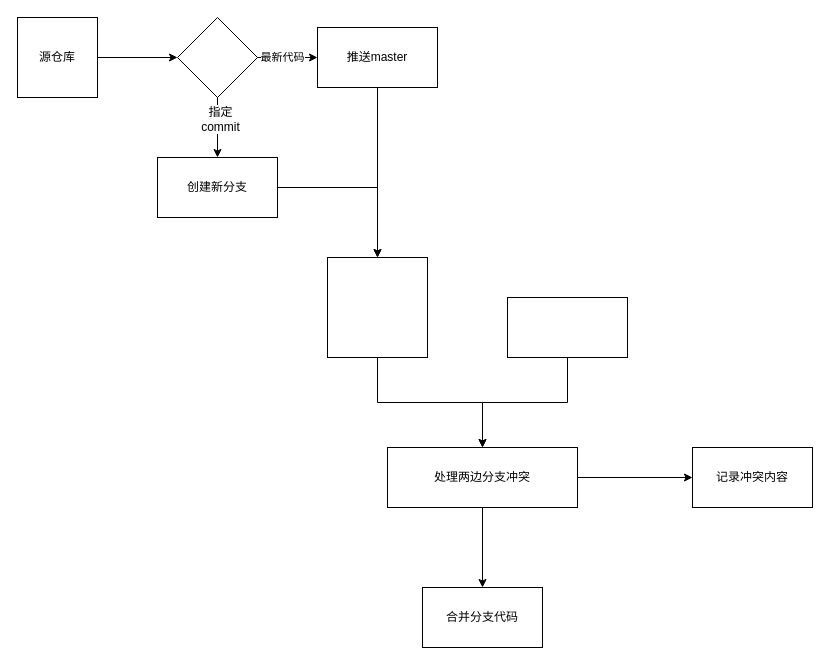
Some shapes in this 830 by 665 pixel diagram are drawn without their labels. The centre of each missing label's shape, as x and y in pixels:
"同步时间" goes at [217,57].
"目标仓库代码分支B" goes at [567,327].
"目标仓库新分支A" goes at [377,307].
